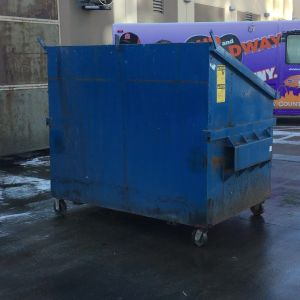Dumpster: (36, 35, 286, 249)
